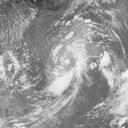cyclone: (42, 15, 107, 97)
